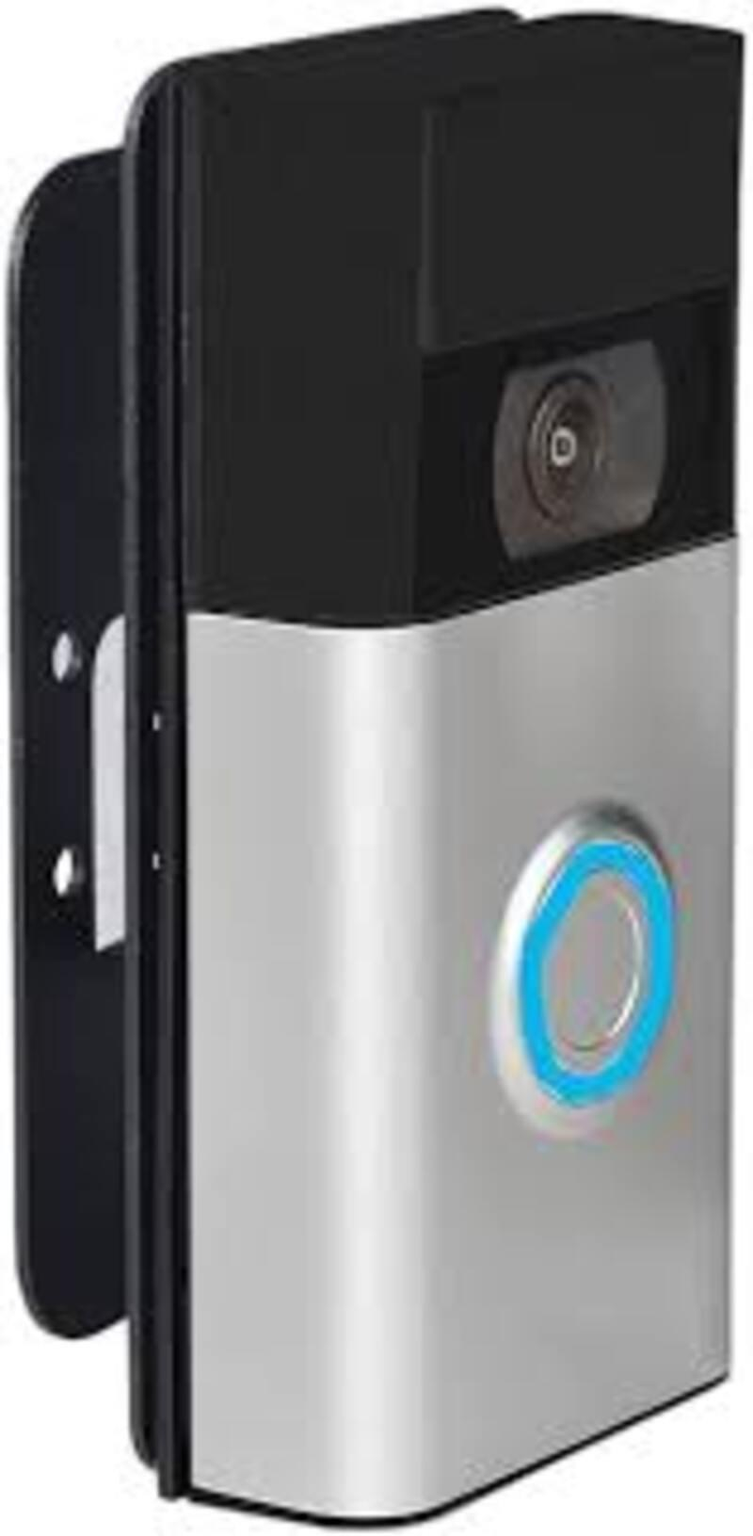doorbell: (164, 54, 745, 1522)
